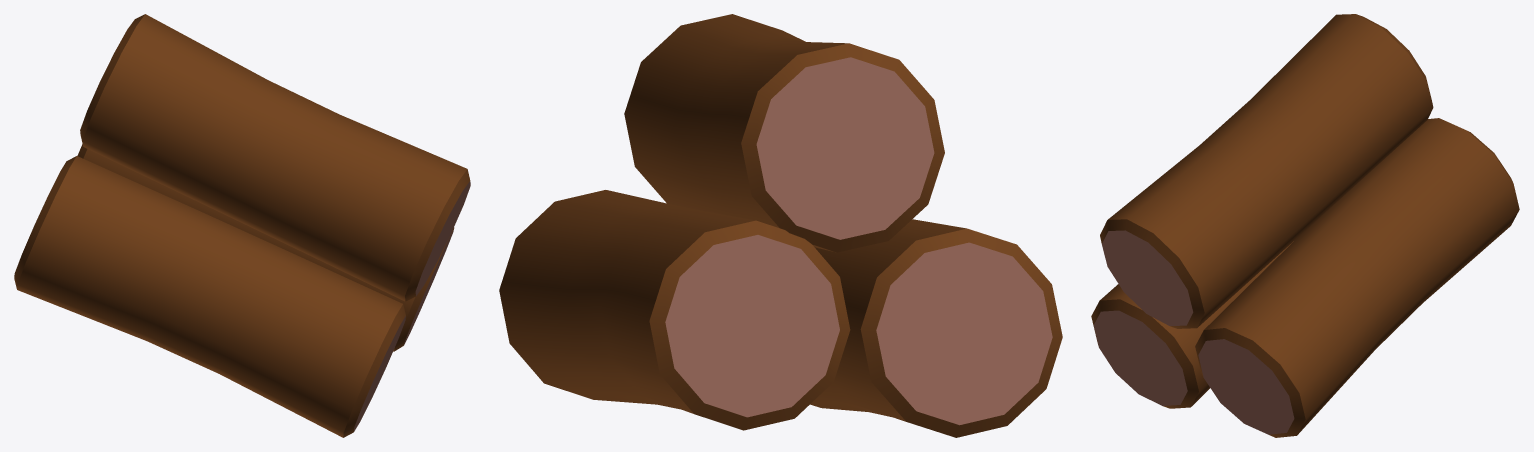
File: quaternius-pirate-ui-wood.glb
3 views of the same model, side by side, from view 1: azimuth 30°, elevation 25°; view 2: azimuth 150°, elevation 25°; view 3: azimuth 270°, elevation 25° (orthographic). The views are drawn at different scales.
Visible parts, largest first — view 1: UI_Wood; view 2: UI_Wood; view 3: UI_Wood.
Part boxes in pixels (bbox=[...]): UI_Wood: bbox=[14, 14, 470, 437]; UI_Wood: bbox=[499, 14, 1062, 437]; UI_Wood: bbox=[1091, 14, 1519, 437].
Size of the model in its own units: 0.5581 by 0.4678 by 0.5338.
1 material, 1 textured.
